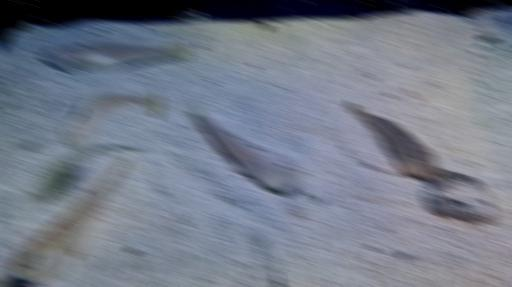Fish: (11, 153, 130, 283), (194, 103, 301, 190), (350, 103, 439, 178), (62, 91, 161, 150), (42, 44, 189, 72), (16, 138, 43, 150), (272, 268, 278, 286)
